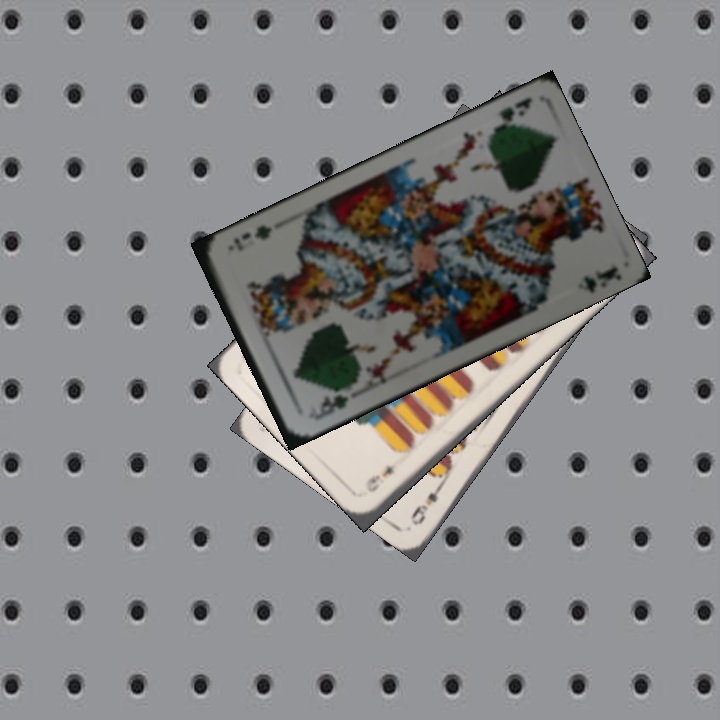E9: (406, 477, 448, 529), (362, 460, 397, 495)
GK: (487, 93, 535, 137), (307, 390, 352, 422)
